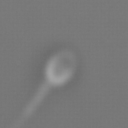normal: (7, 79, 52, 128)
